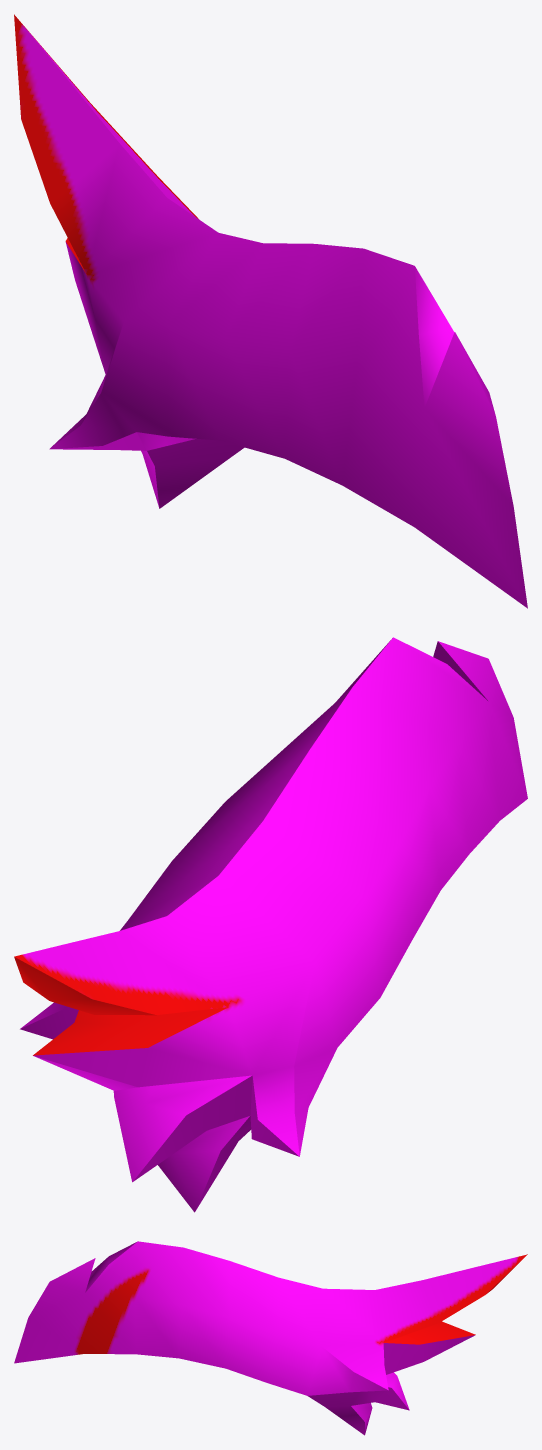
File: pinnacle.glb
3 renders of one model, top to bottom at view 1: azimuth 30°, elevation 25°; view 2: azimuth 150°, elevation 25°; view 3: azimuth 270°, elevation 25°, orthographic. The views are drawn at different scales.
Parts seen in each view (by area): view 1: Crest_4; view 2: Crest_4; view 3: Crest_4.
Part boxes in pixels (bbox=[...]): Crest_4: bbox=[14, 14, 527, 608]; Crest_4: bbox=[14, 637, 527, 1212]; Crest_4: bbox=[14, 1241, 527, 1435].
Size of the model in its own units: 0.2275 by 0.3378 by 0.7821.
Materials: 1 (1 with a texture image).
